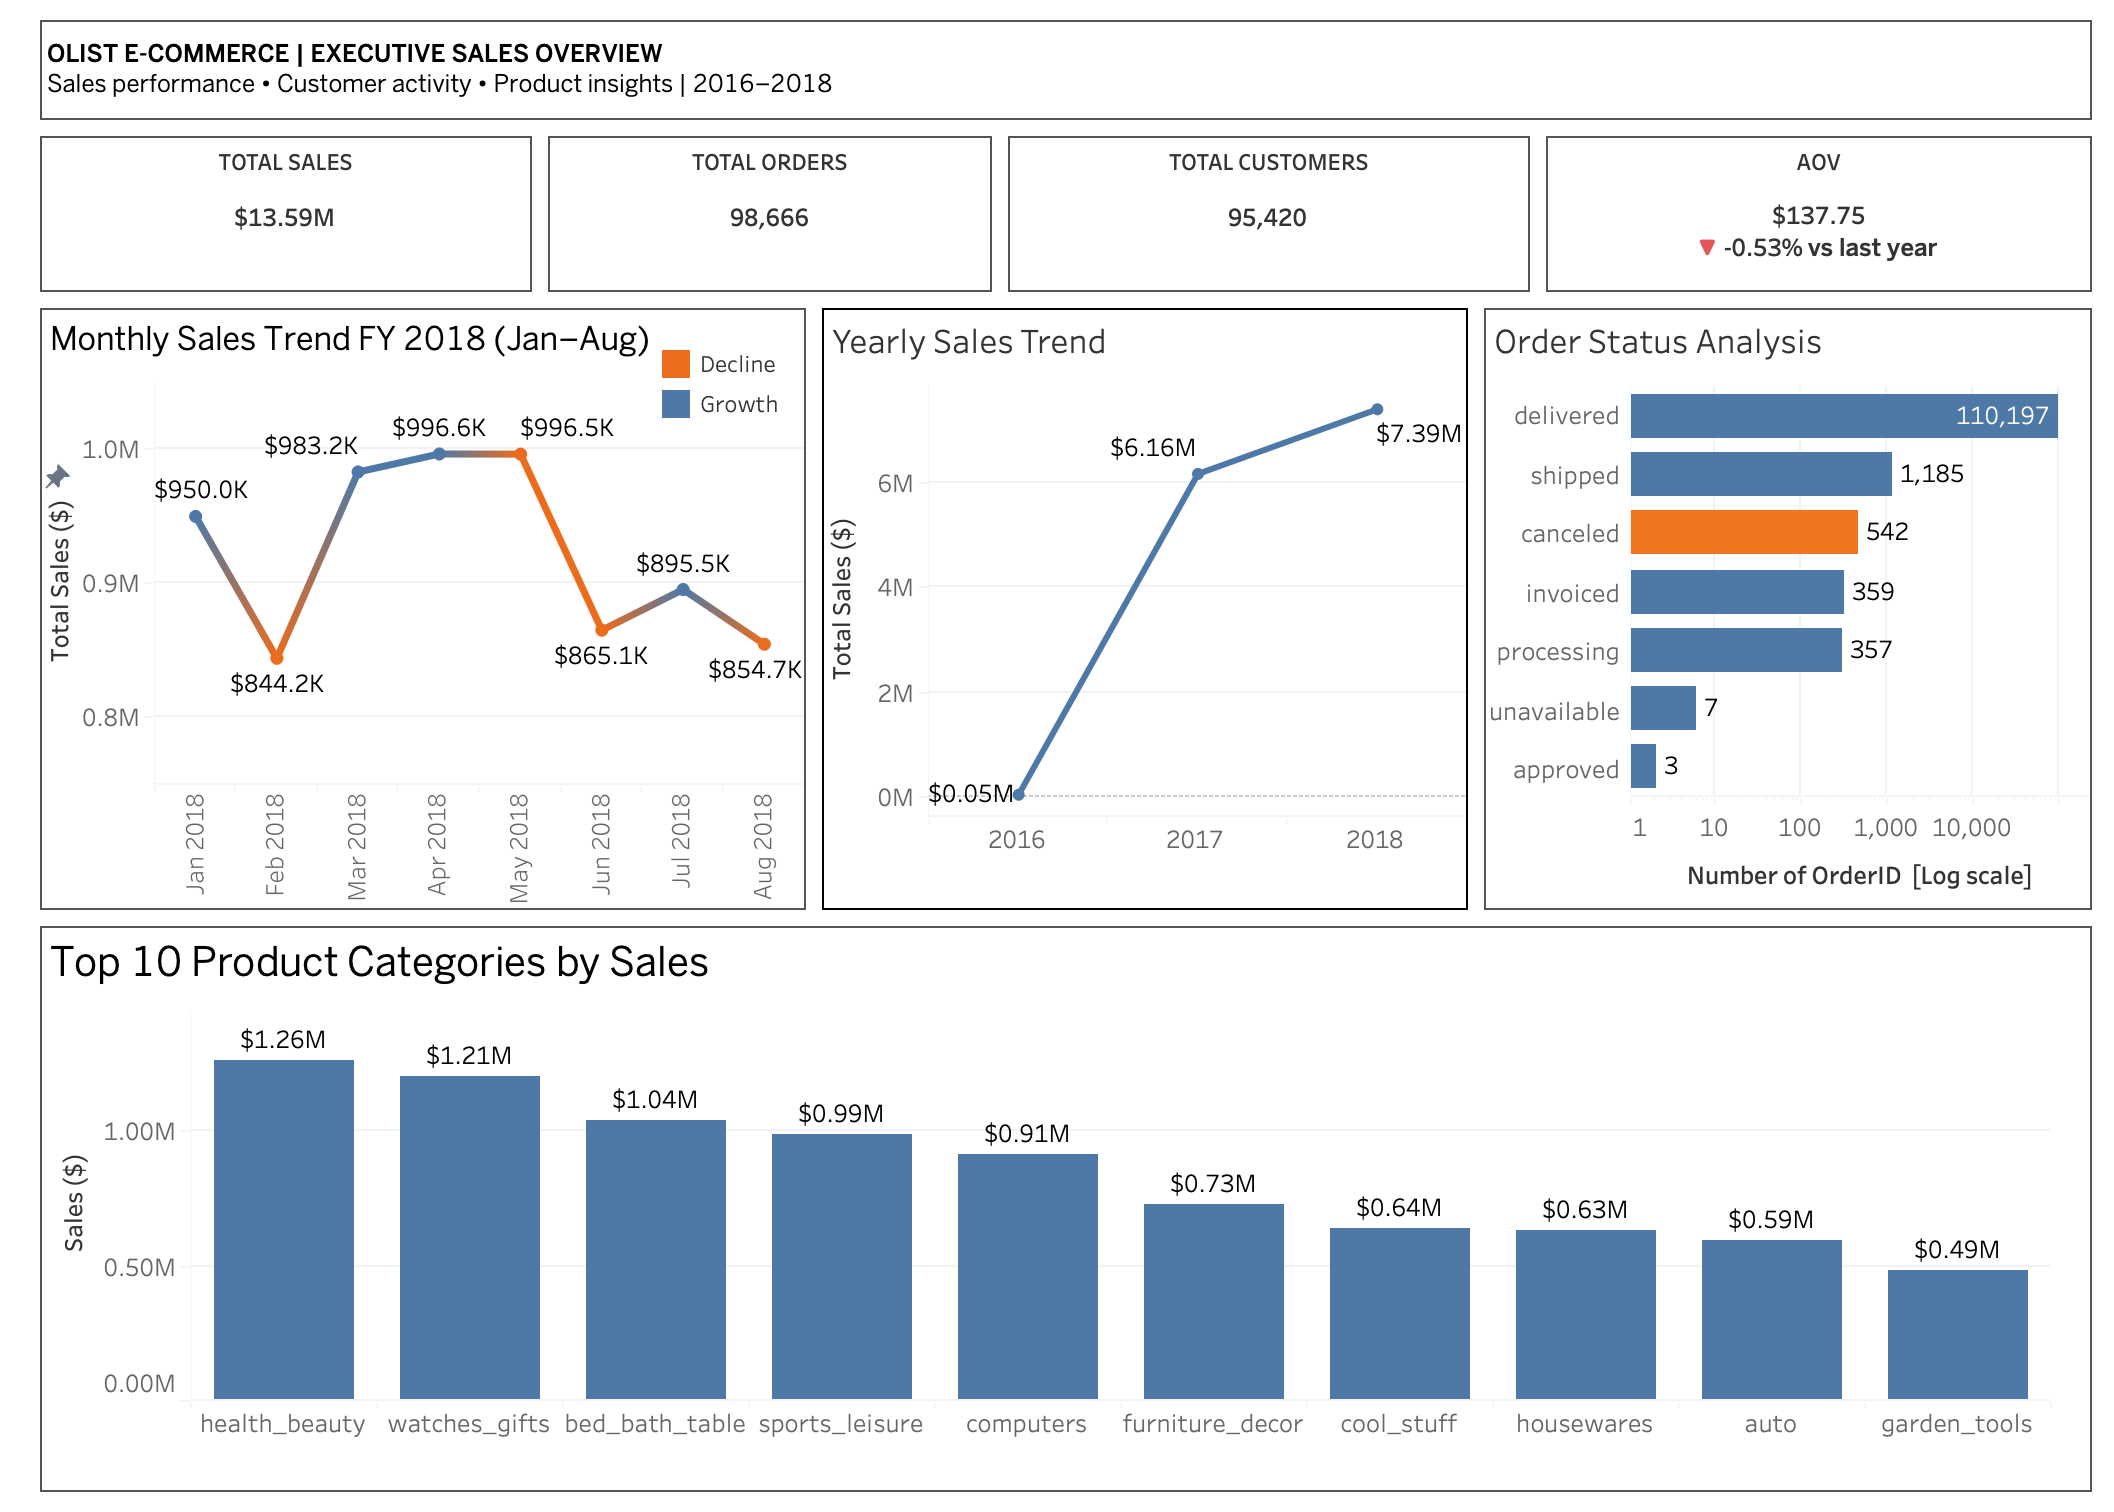

This screenshot's page, from the dashboard's own definition file:
{"tool":"tableau","page":{"name":"Executive Sales Dashboard","canvas":[1000,1000],"units":"permille","ordinal":0},"visuals":[{"type":"text","box":[7.6,10.5,984.8,76]},{"type":"worksheet","title":"KPI - Total Sales","mark":"Automatic","box":[7.6,86.5,241.9,113.2]},{"type":"worksheet","title":"KPI - Total Orders","mark":"Automatic","box":[249.5,86.5,219.1,113.2]},{"type":"worksheet","title":"KPI - Total Customers","mark":"Automatic","box":[468.5,86.5,256.2,113.2]},{"type":"worksheet","title":"KPI - Average Order Value","mark":"Automatic","box":[724.7,86.5,267.6,113.2]},{"type":"worksheet","title":"Monthly Sales Trend 2018","mark":"Automatic","rows":["price"],"cols":["Order Date (copy)_2677485214154753"],"box":[7.6,199.7,372.3,407.1]},{"type":"worksheet","title":"Yearly Sales Trend ","mark":"Automatic","rows":["price"],"cols":["order_date"],"box":[380,199.7,315.2,407.1]},{"type":"worksheet","title":"Order Status Analysis","mark":"Automatic","rows":["order_status"],"cols":["order_id"],"box":[695.2,199.7,297.2,407.1]},{"type":"legend","title":"Monthly Sales Trend 2018","param":"[federated.141xznn00u7kif11ye8vf1x32w1q].[usr:Calculation_2677485273059335:nk]","box":[304.8,228.9,73.3,68.7]},{"type":"worksheet","title":"Sales by Product Category","mark":"Automatic","rows":["price"],"cols":["product_category_name_english"],"box":[7.6,606.8,984.8,382.7]}]}

Visuals, with their boxes on the dashboard's canvas, which has no fixed pixel size, in thousandths of its width and height (x1, y1, x2, y2). These are canvas units, not pixel positions in the 2114x1512 screenshot, which may show the page scaled, cropped or inside an application window:
text: 8 10 992 86
"KPI - Total Sales" worksheet: 8 86 250 200
"KPI - Total Orders" worksheet: 250 86 469 200
"KPI - Total Customers" worksheet: 468 86 725 200
"KPI - Average Order Value" worksheet: 725 86 992 200
"Monthly Sales Trend 2018" worksheet: 8 200 380 607
"Yearly Sales Trend " worksheet: 380 200 695 607
"Order Status Analysis" worksheet: 695 200 992 607
"Monthly Sales Trend 2018" legend: 305 229 378 298
"Sales by Product Category" worksheet: 8 607 992 990
